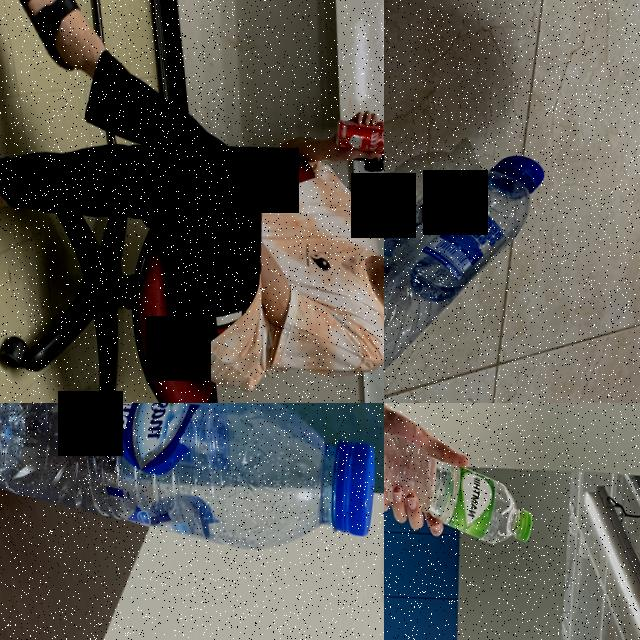bottle: (0, 403, 384, 574), (384, 145, 569, 403), (384, 414, 534, 559)
can: (331, 112, 384, 158)
